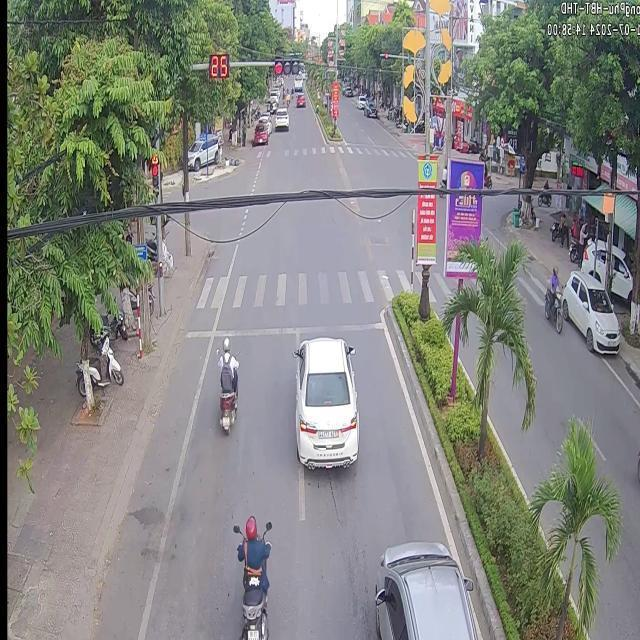car: (375, 542, 474, 631), (292, 336, 357, 467)
motobike: (237, 505, 268, 638), (216, 336, 237, 431)
red_light: (270, 51, 301, 76), (148, 154, 158, 187), (152, 136, 158, 147)
stop_line: (182, 321, 383, 336)
